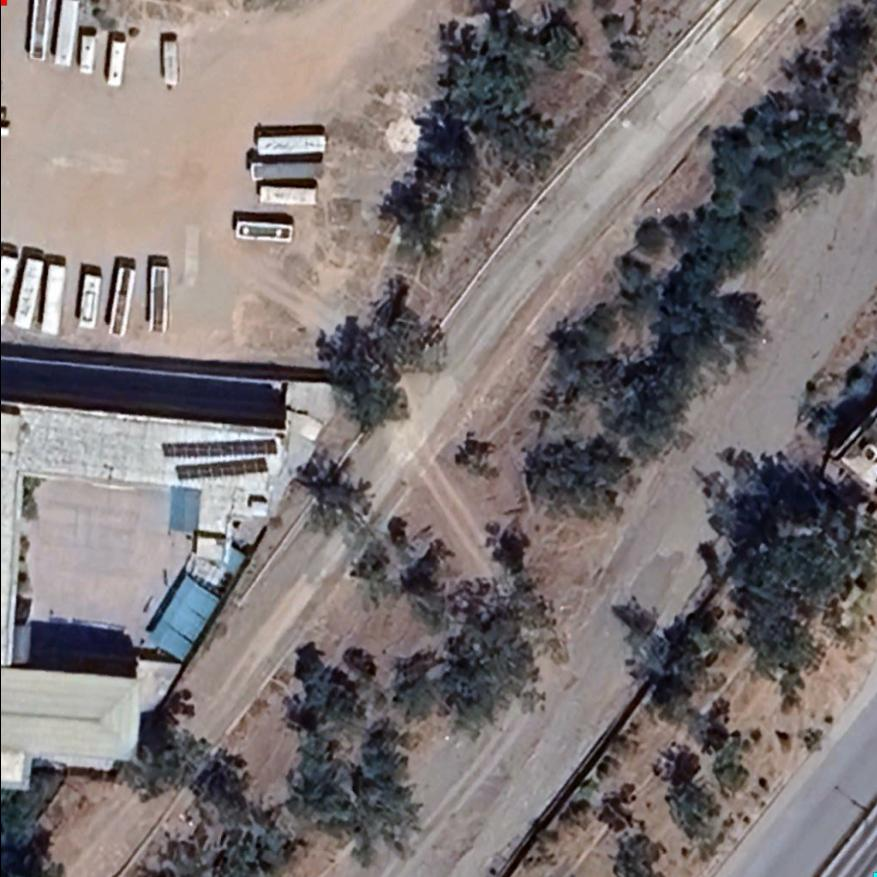Solarpanel: (173, 455, 270, 483), (158, 438, 278, 459)
